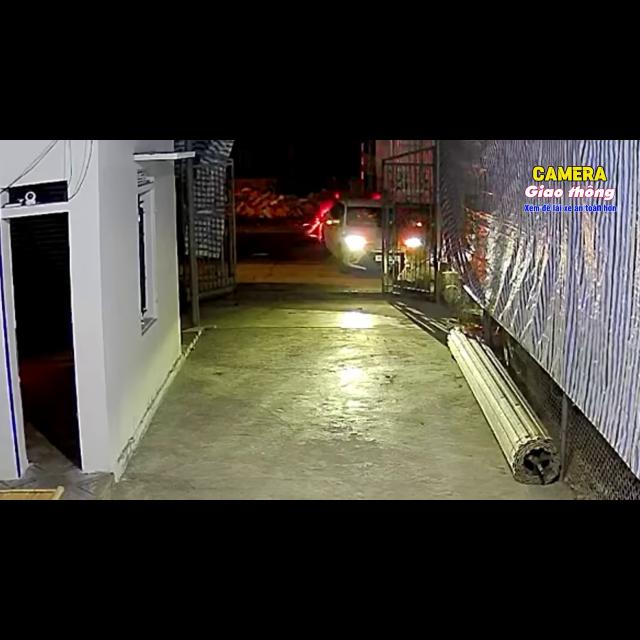car: (322, 199, 382, 271)
